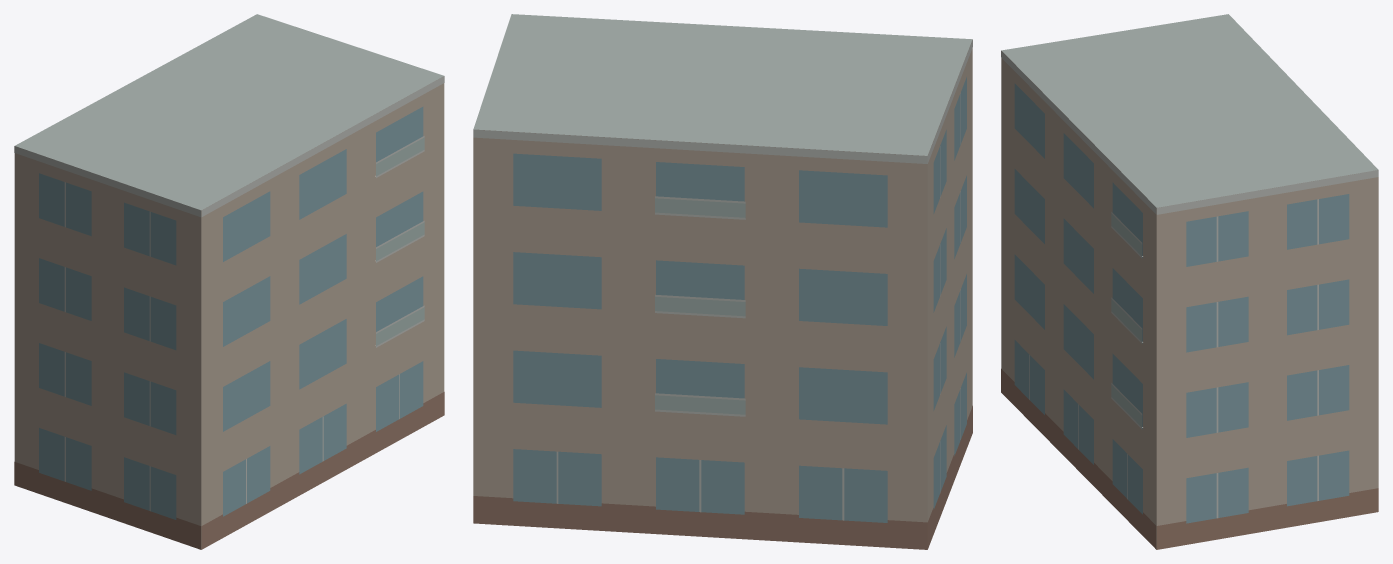
File: survey-upis-32731620.glb
3 views of the same model, side by side, from view 1: azimuth 30°, elevation 25°; view 2: azimuth 150°, elevation 25°; view 3: azimuth 270°, elevation 25° (orthographic). The views are drawn at different scales.
Visible parts, largest first — view 1: survey-upis-32731620.tmp; view 2: survey-upis-32731620.tmp; view 3: survey-upis-32731620.tmp.
Boxes of the visible parts, x1,y1,x2,y2 form: survey-upis-32731620.tmp: (14,14,444,549); survey-upis-32731620.tmp: (473,14,972,549); survey-upis-32731620.tmp: (1001,14,1378,549).
Size of the model in its own units: 14.35 by 11.8 by 11.81.
